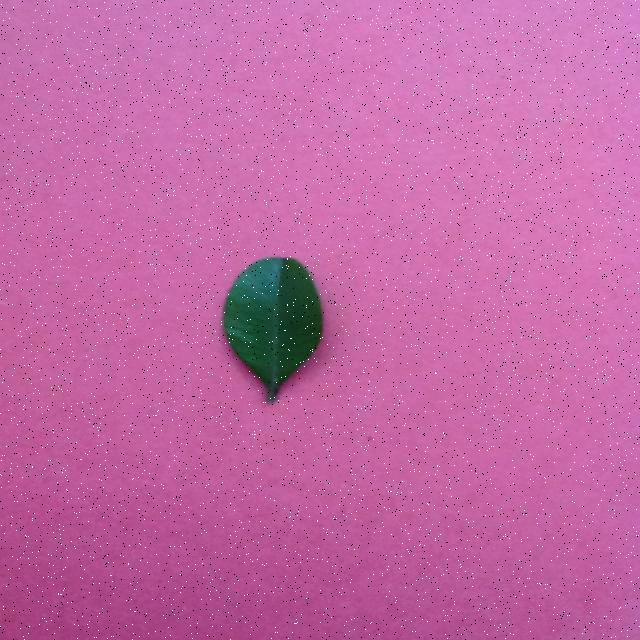foliage: (216, 252, 331, 404)
